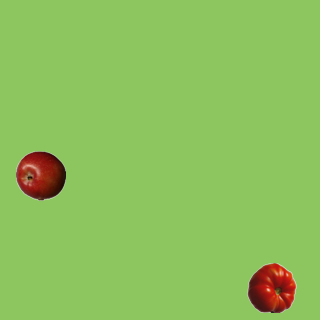Apple Braeburn: (15, 150, 65, 200)
Tomato 3: (246, 262, 296, 312)
